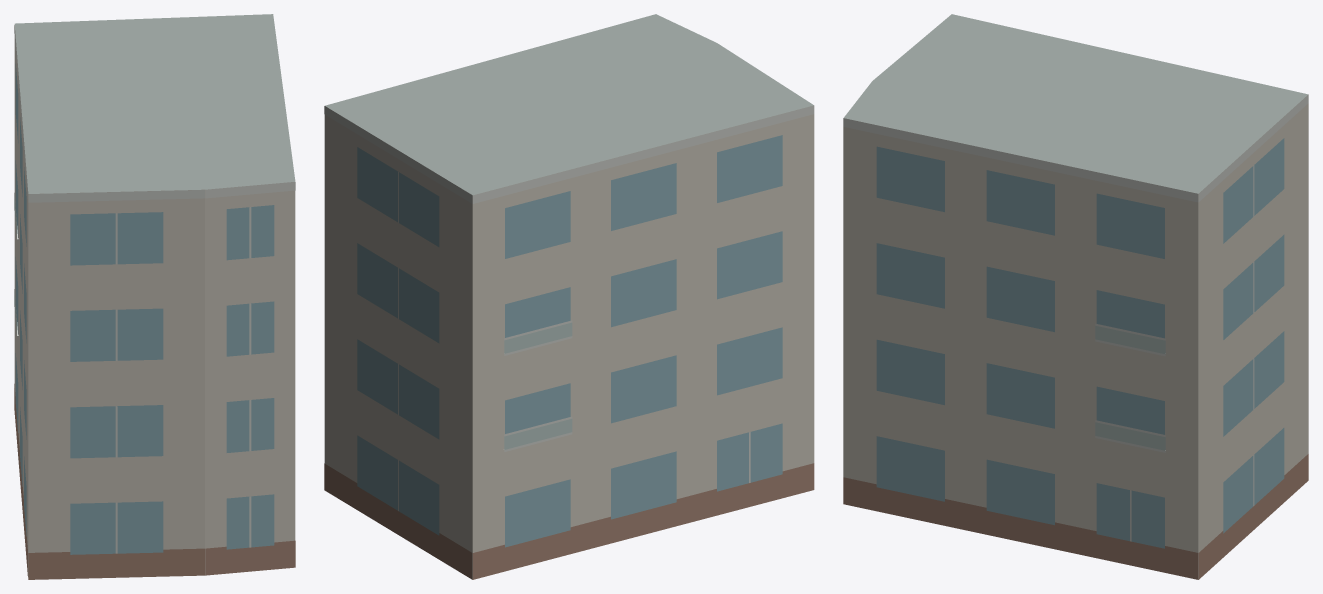
File: survey-upis-32473702.glb
The picture shows the model from 3 angles, left to right: view 1: azimuth 30°, elevation 25°; view 2: azimuth 150°, elevation 25°; view 3: azimuth 270°, elevation 25°; orthographic projection.
Visible parts, largest first — view 1: survey-upis-32473702.tmp; view 2: survey-upis-32473702.tmp; view 3: survey-upis-32473702.tmp.
Boxes of the visible parts, x1,y1,x2,y2 form: survey-upis-32473702.tmp: (14,14,295,579); survey-upis-32473702.tmp: (324,14,814,579); survey-upis-32473702.tmp: (843,14,1308,579).
Size of the model in its own units: 10.74 by 10.75 by 11.75.
